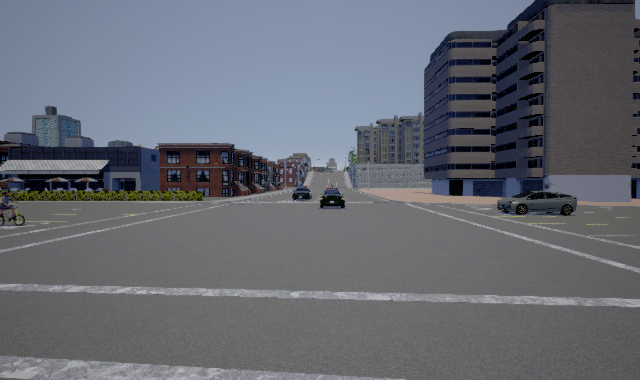bike: (1, 191, 29, 226)
vehicle: (497, 191, 577, 216), (320, 188, 345, 208), (289, 185, 313, 202)
